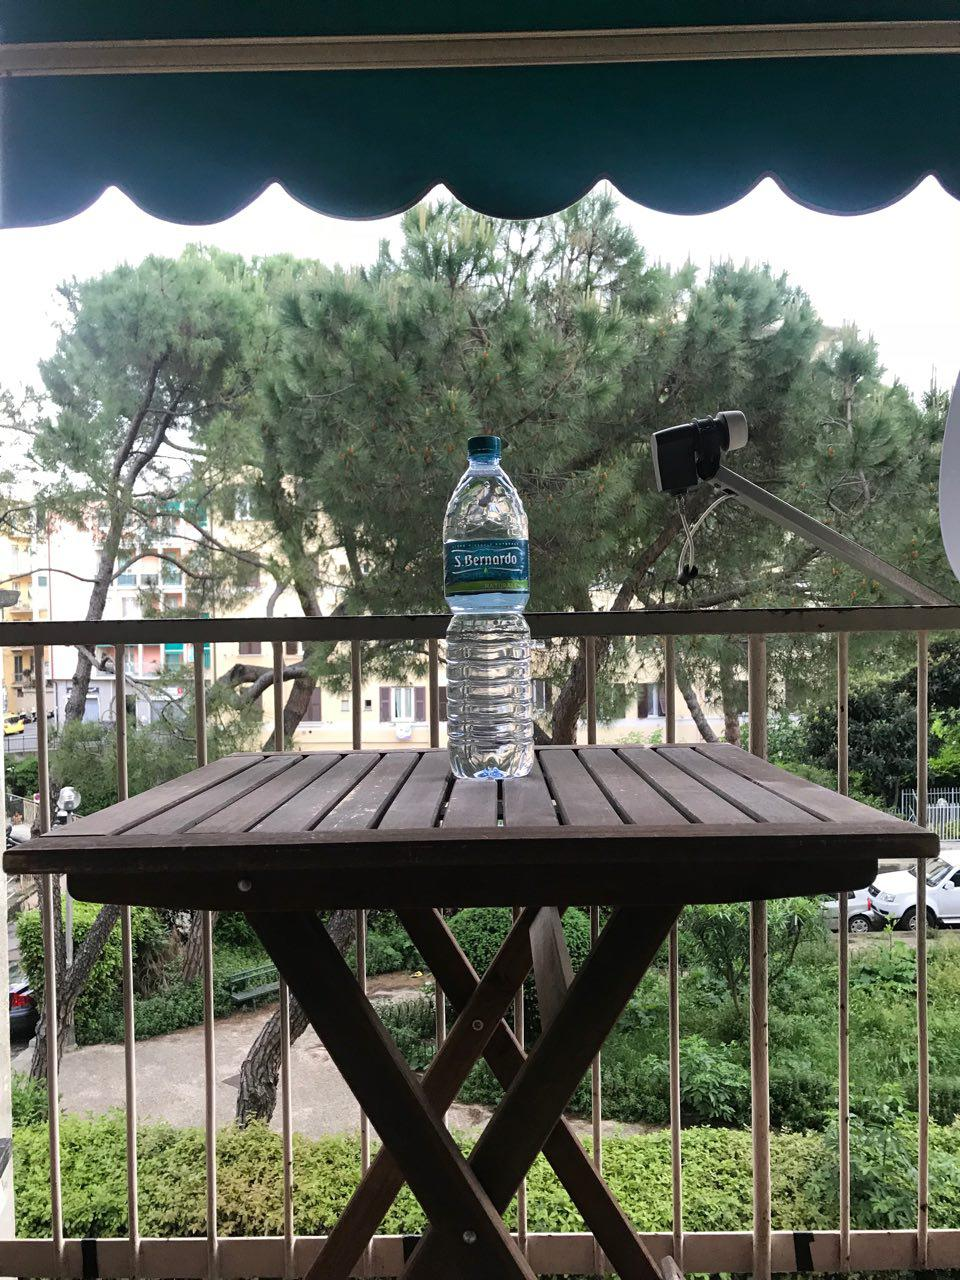san_bernardo: (441, 434, 535, 779)
